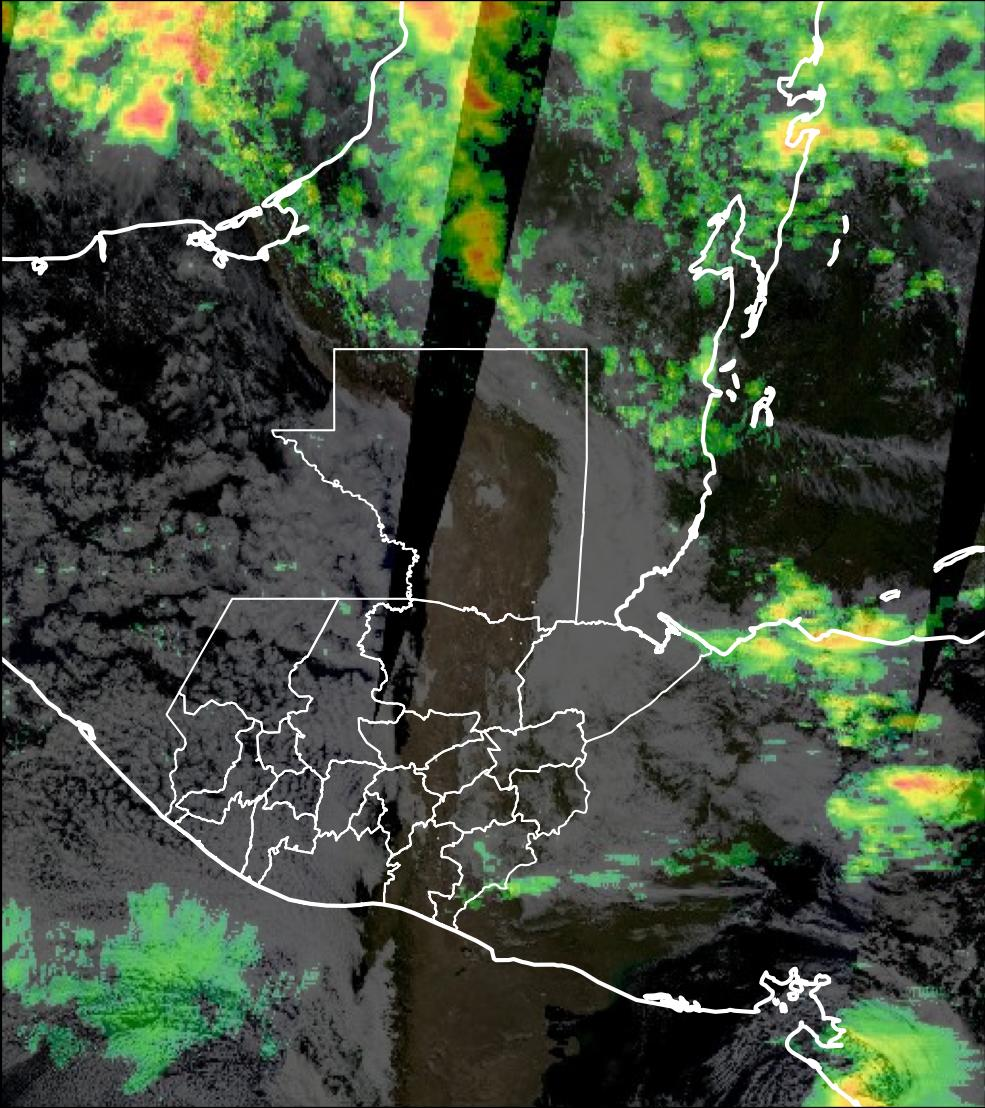precipitacion: (115, 68, 183, 154), (880, 767, 977, 816), (453, 67, 507, 127)
